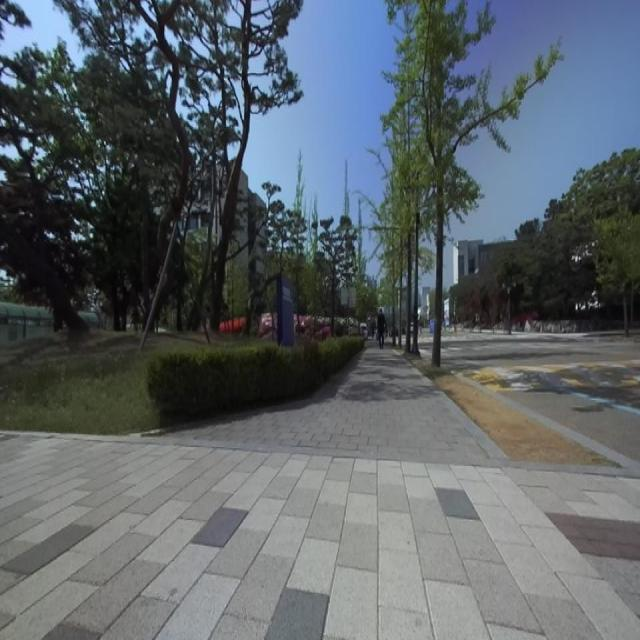sidewalk: (0, 349, 640, 640)
